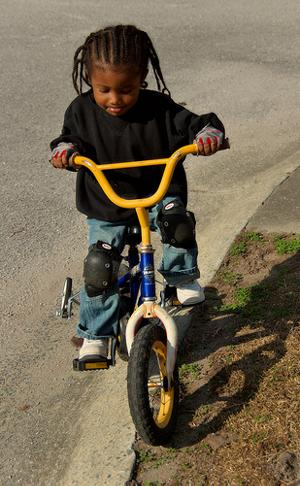person: (50, 22, 225, 372)
